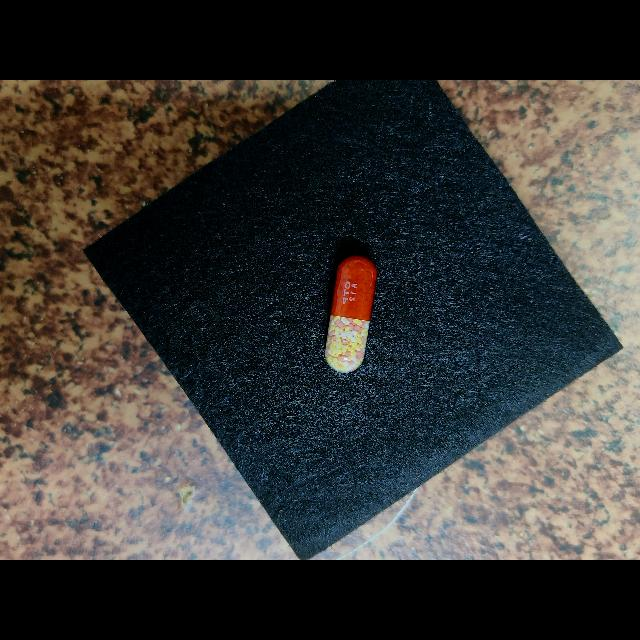Intact Capsule: (325, 256, 377, 373)
